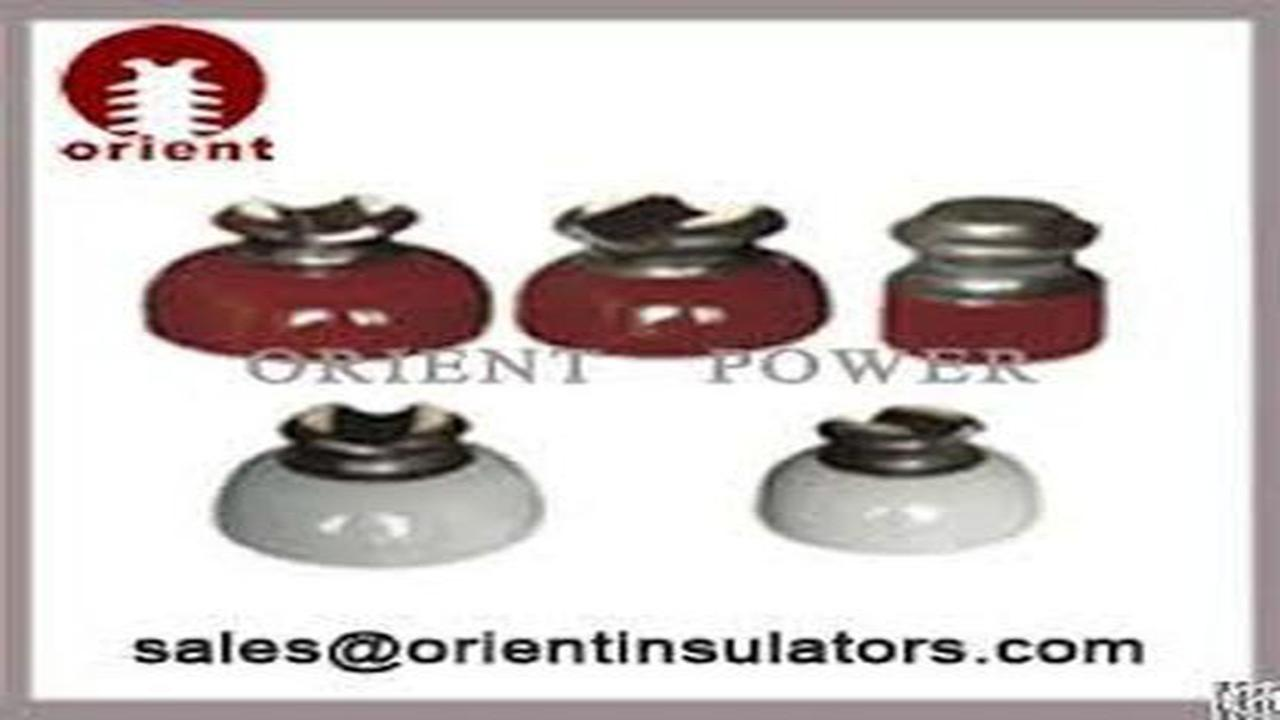insulator_pin: (480, 179, 844, 362)
